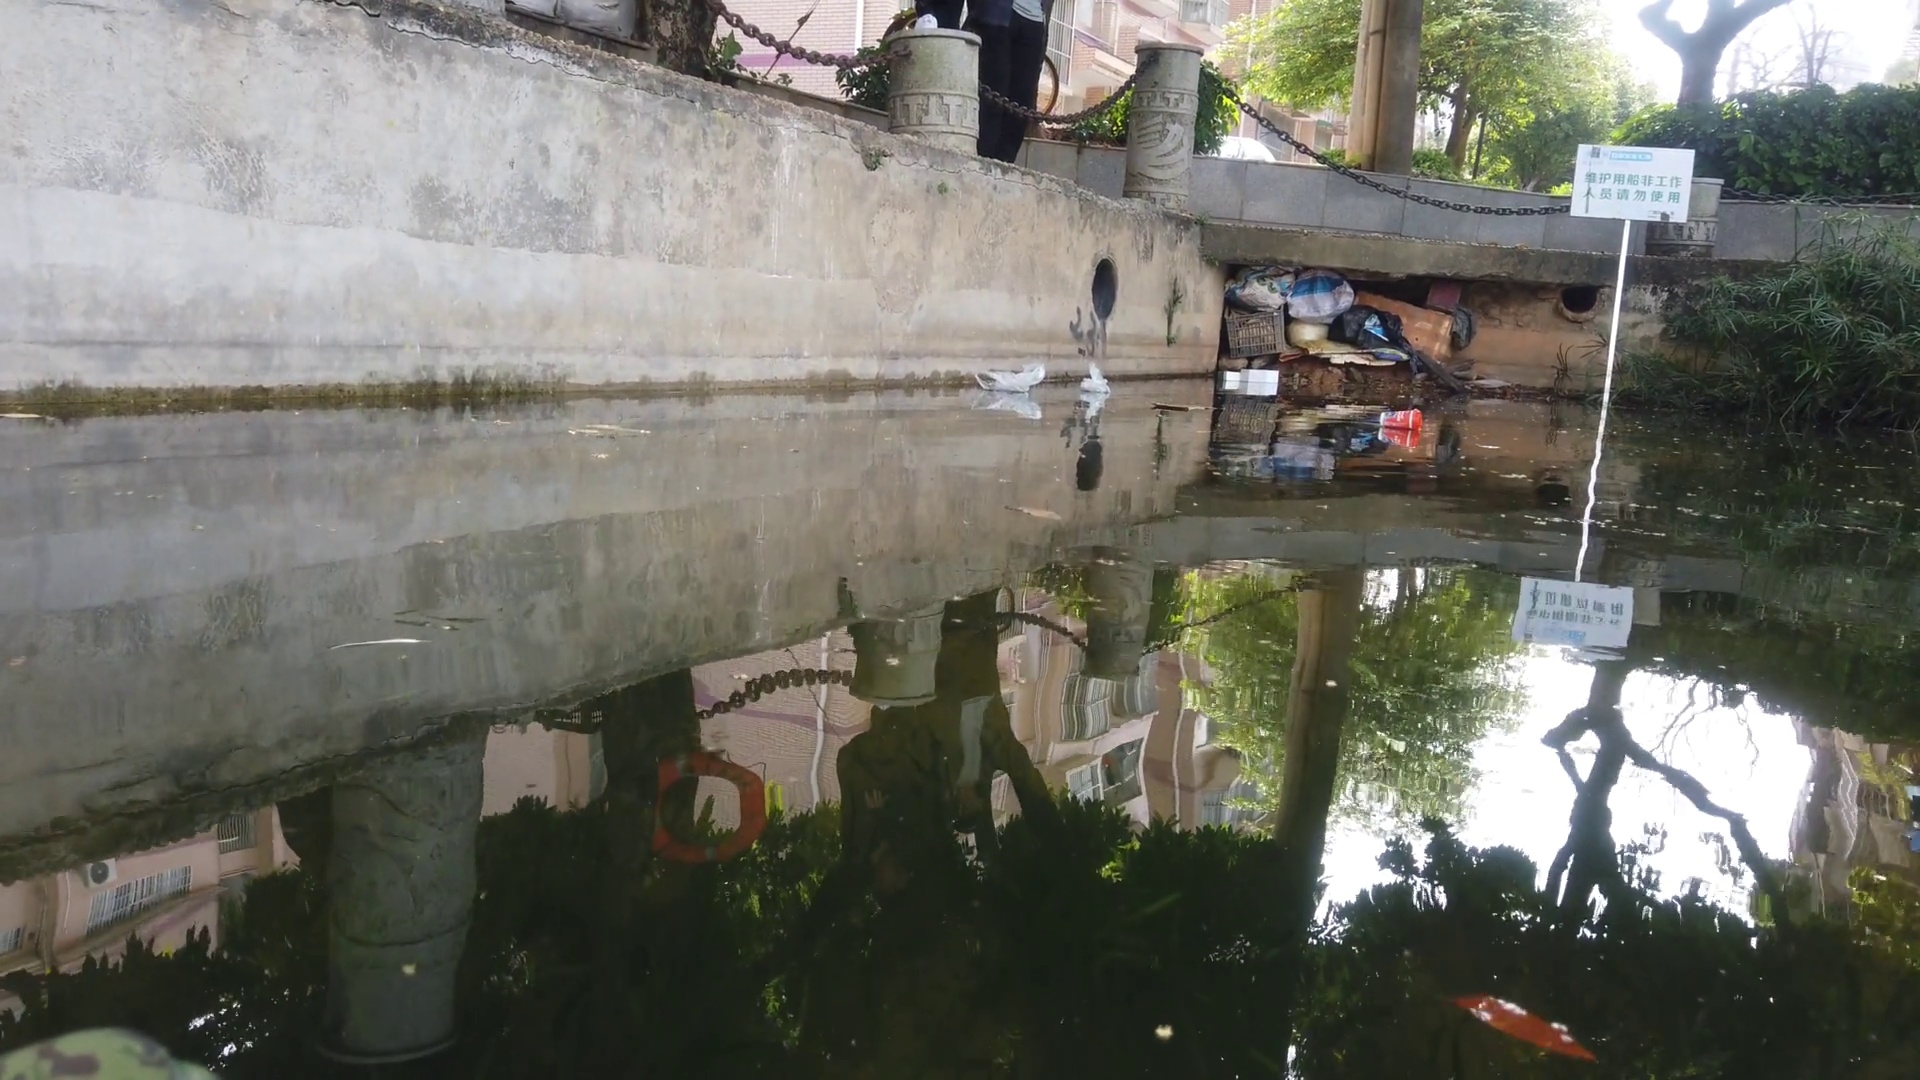bottle: (1373, 406, 1429, 434)
carton: (1244, 367, 1279, 384), (1222, 371, 1244, 380)
paper: (1155, 396, 1224, 415)
plastic: (971, 363, 1055, 394), (1077, 364, 1117, 396)
